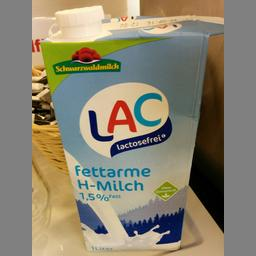milk: (39, 4, 222, 254)
